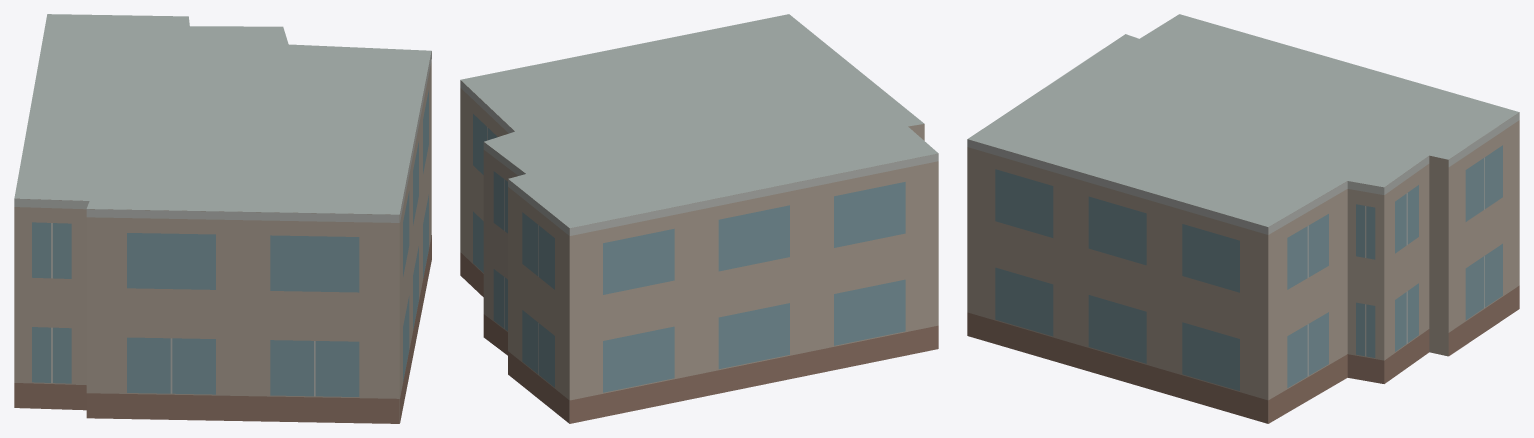
The model's file is survey-upis-32601726.glb.
3 views of the same model, side by side, from view 1: azimuth 30°, elevation 25°; view 2: azimuth 150°, elevation 25°; view 3: azimuth 270°, elevation 25° (orthographic). The views are drawn at different scales.
Parts seen in each view (by area): view 1: survey-upis-32601726.tmp; view 2: survey-upis-32601726.tmp; view 3: survey-upis-32601726.tmp.
Boxes of the visible parts, x1,y1,x2,y2 form: survey-upis-32601726.tmp: (14, 14, 431, 423); survey-upis-32601726.tmp: (460, 14, 938, 423); survey-upis-32601726.tmp: (967, 14, 1519, 423).
Size of the model in its own units: 14.18 by 6.1 by 15.53.
